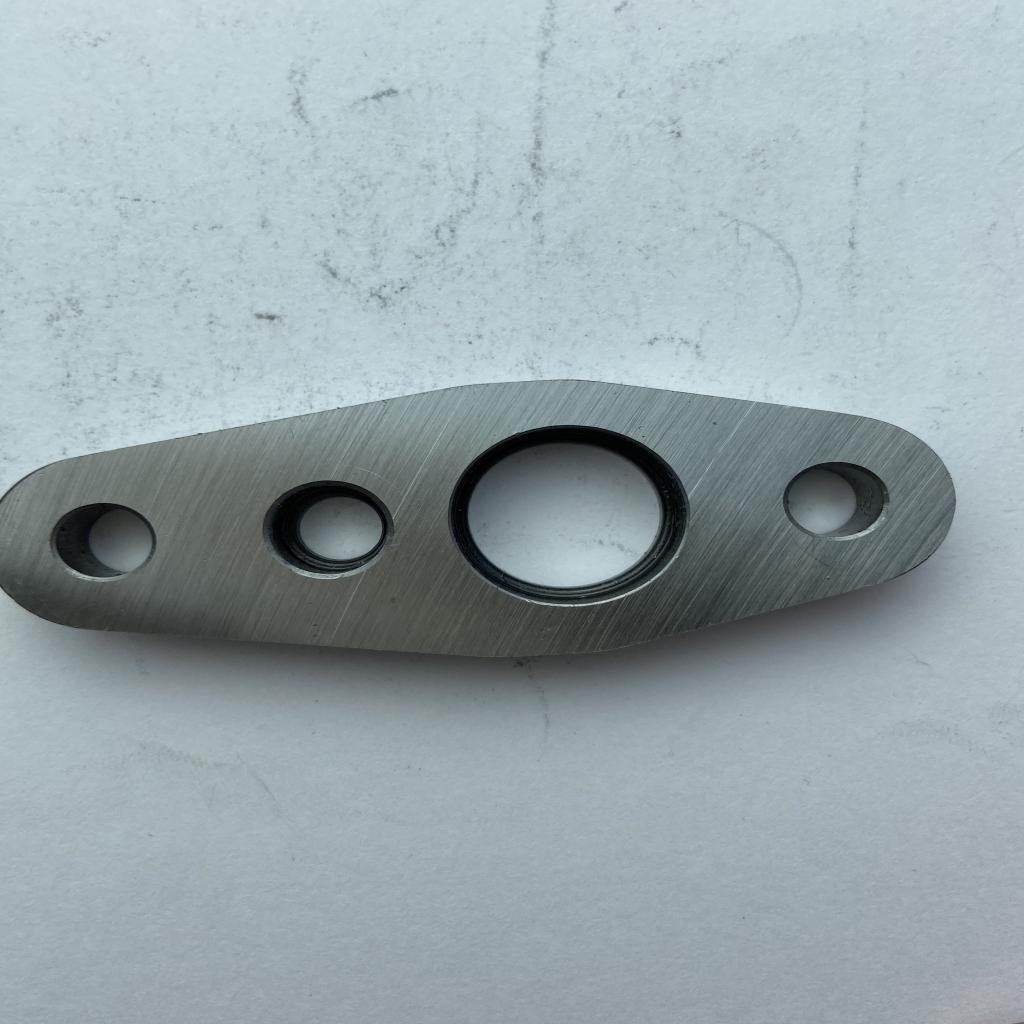chap: (634, 423, 647, 432), (707, 419, 720, 427)
lines: (350, 461, 405, 483), (796, 547, 831, 573)
